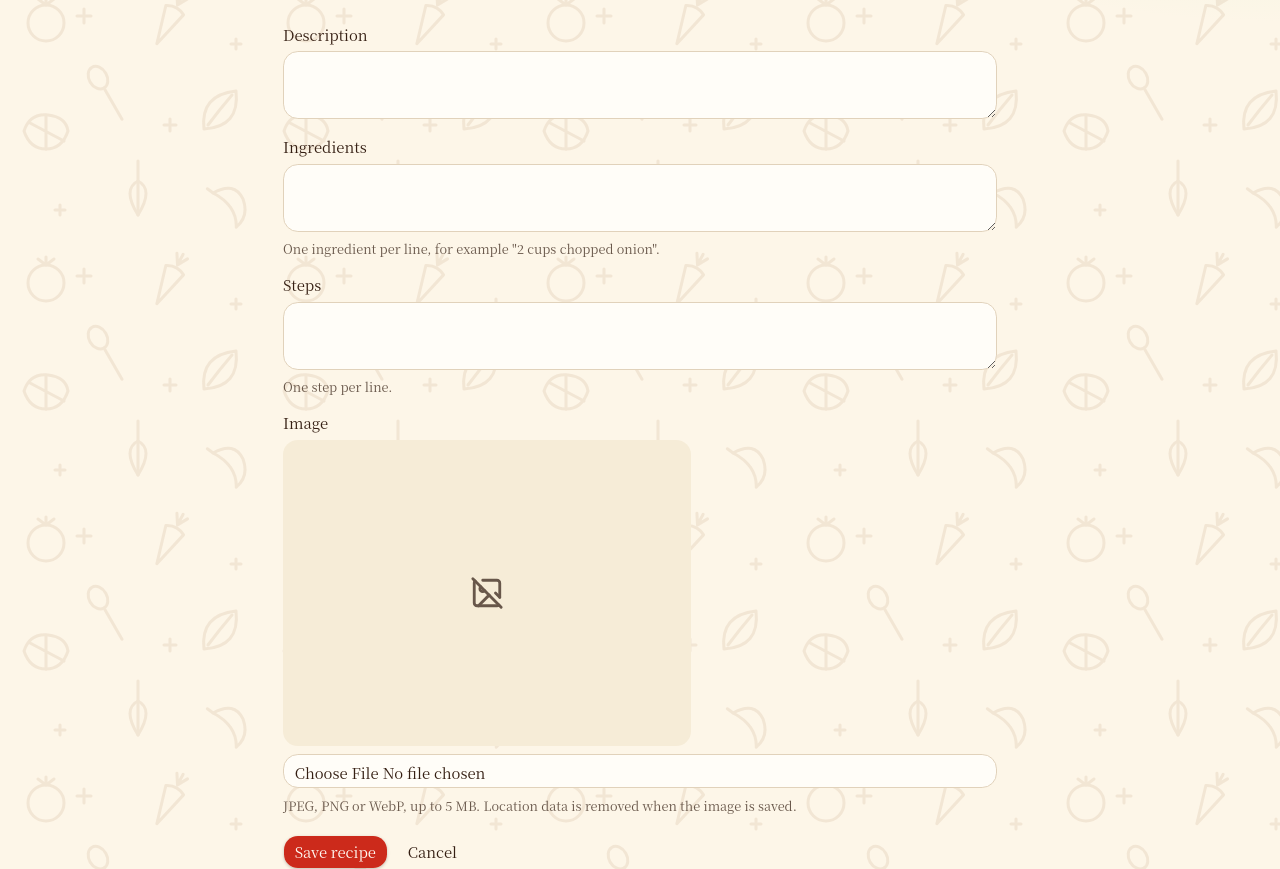
creating a recipe › requires a title and sends nothing when it is missing
(page scrolled)
Click the button "Save recipe": coordinates (335, 852) [283,835,388,868]
(page scrolled)
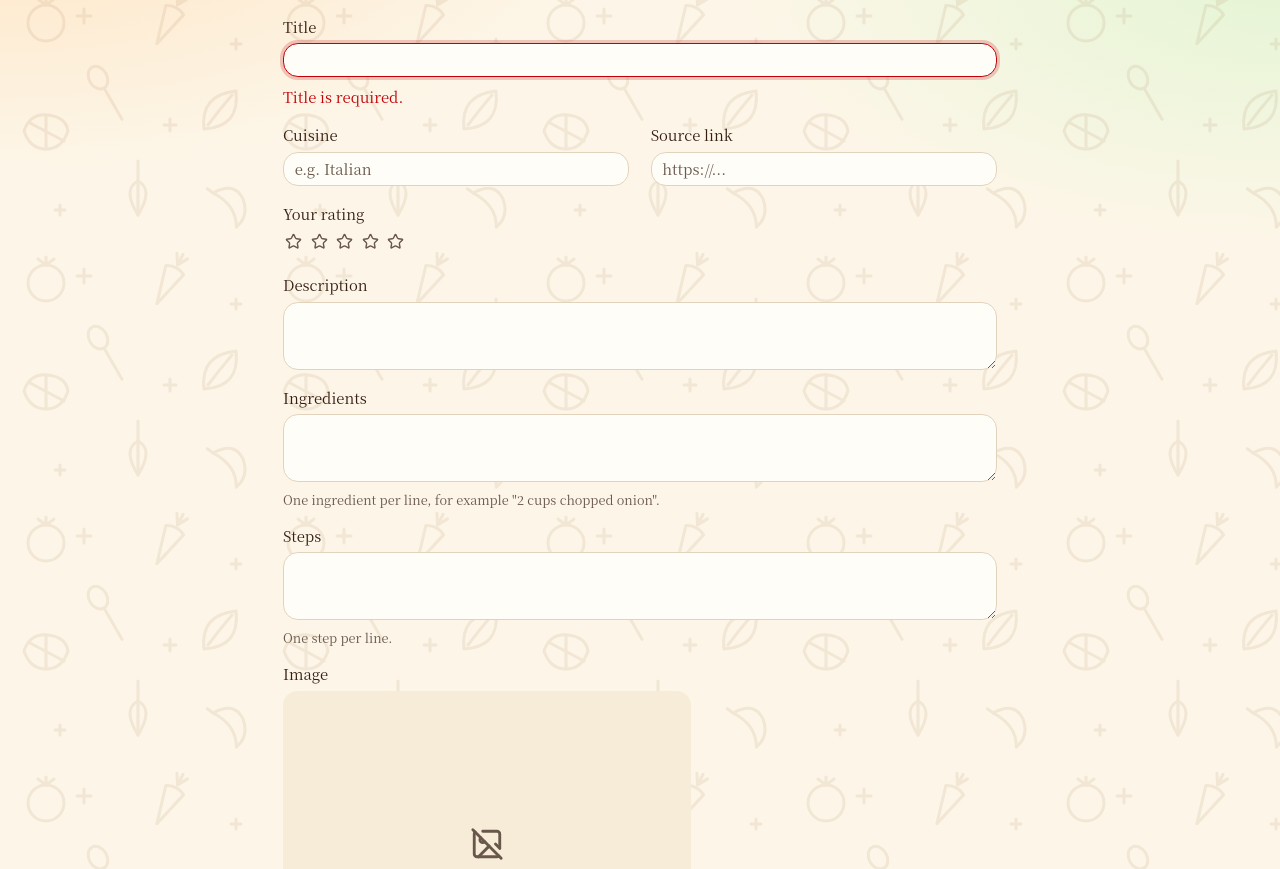
Expected: the text "Title is required." is shown, [283,86,403,107]
